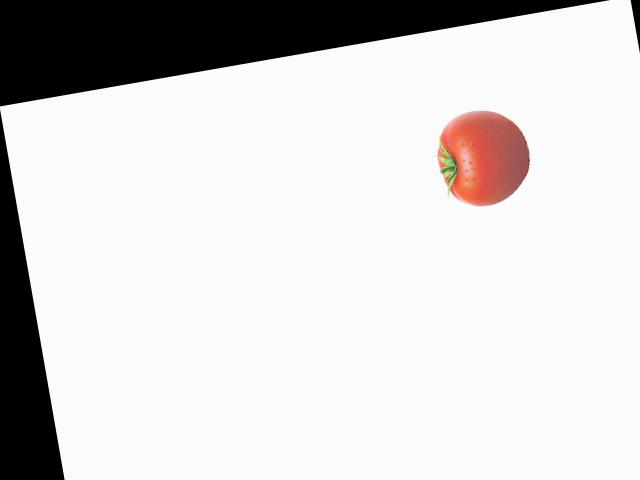tomato: (432, 113, 536, 212)
